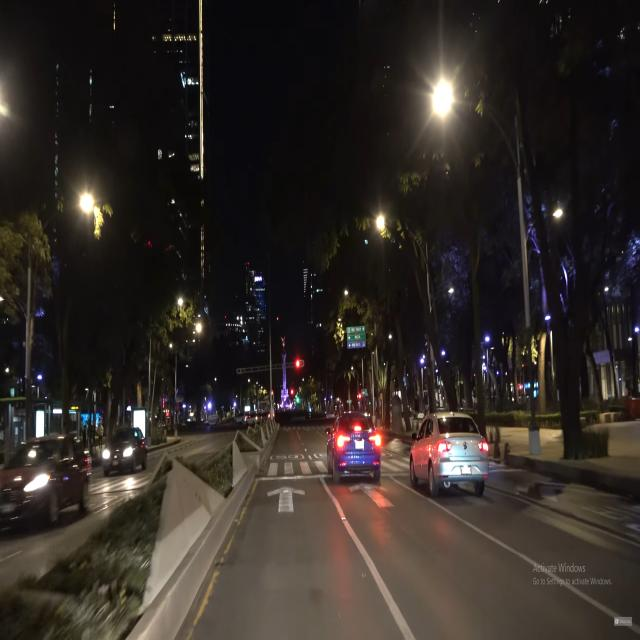headlights: (99, 441, 138, 467)
